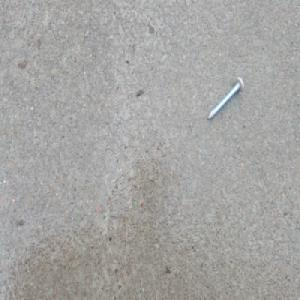Nail: (207, 74, 244, 123)
